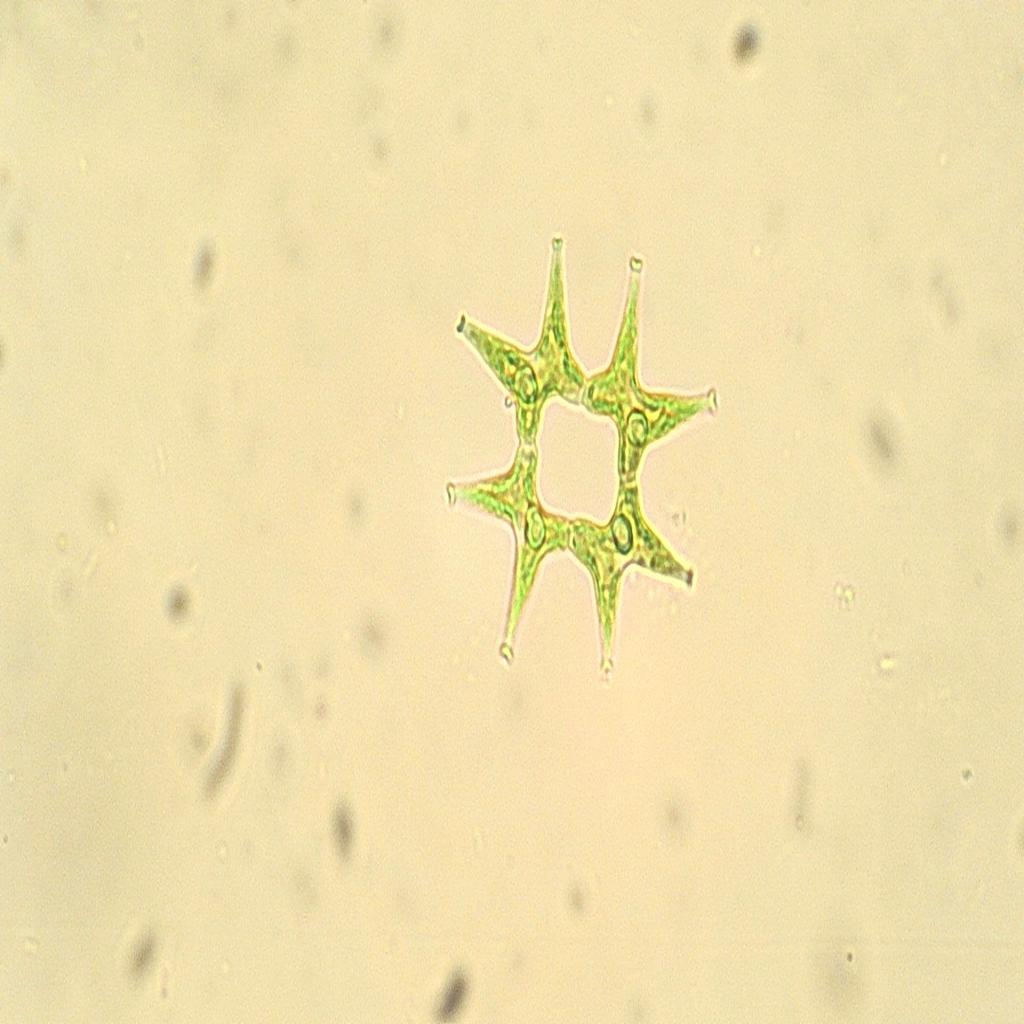Pediastrum_CO: (428, 216, 728, 689)
